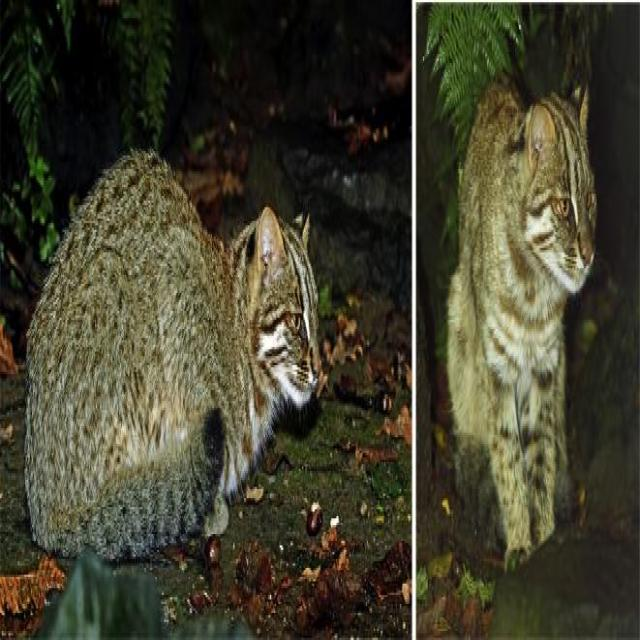leopard: (30, 135, 334, 542), (446, 58, 604, 519)
